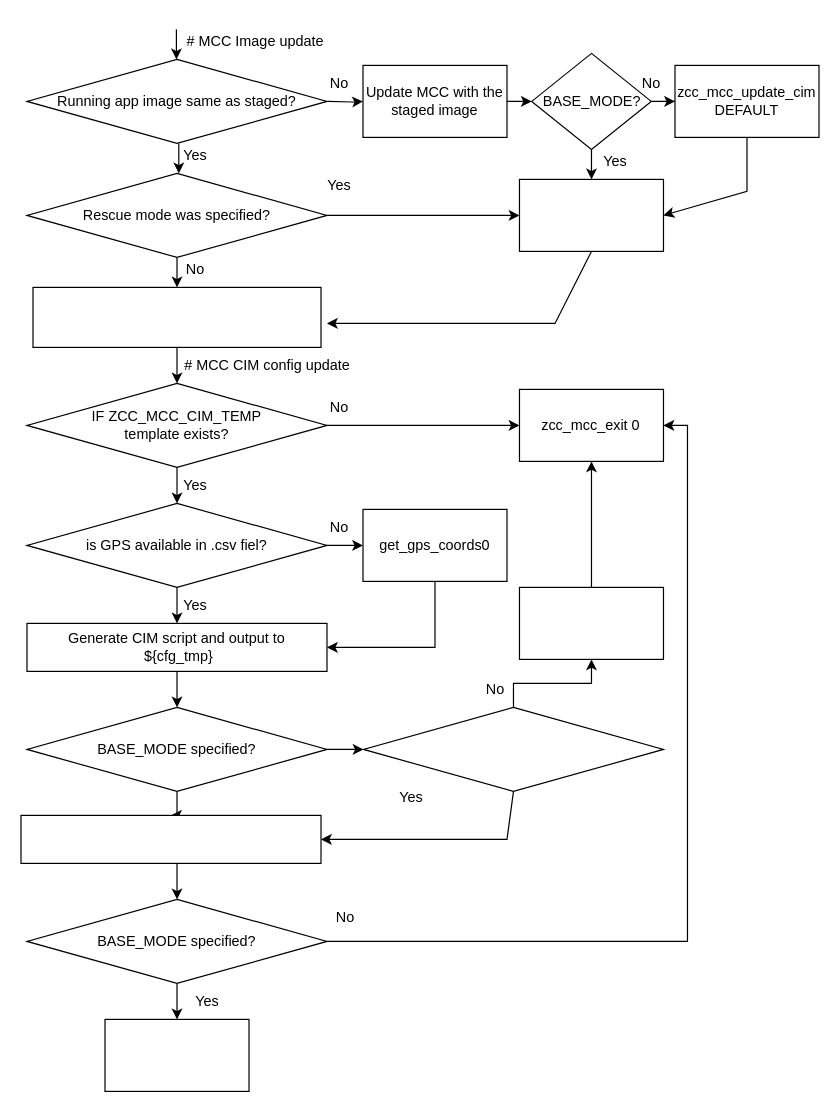
The diagram is 840 pixels wide and 1112 high, and some of its shapes have lost their labels. The shapes that lost their labels are listed below. From the top down, each one's centre as x and y in pixels, then its label:
the point at 590,214: Reboot the radio "mcc-xterm -x boot"
the point at 176,316: zcc_try_to_get_running_image_name Remove stale images when specified
the point at 590,622: device_register
the point at 512,748: Is ${cfg_tmp} different current config?
the point at 170,838: update the CIM mcc-xterm -x inirun
the point at 176,1054: device_register zcc_mcc_exit 0
